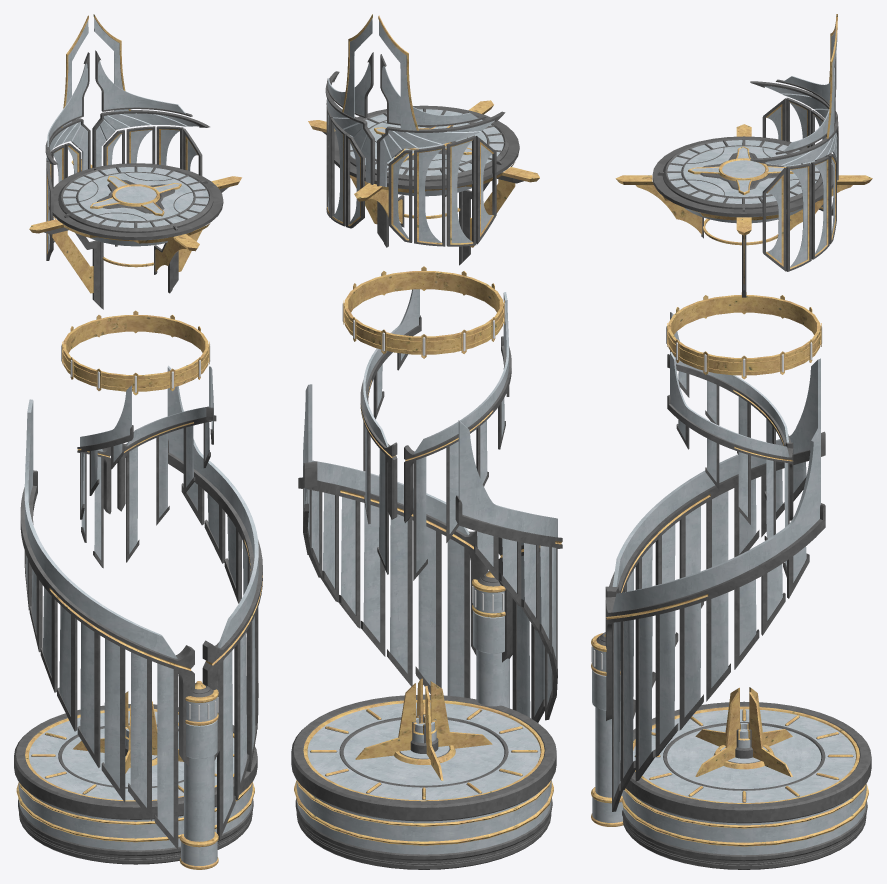
The model's file is SM_pal_map_small_tower_01_2e73df.glb.
The picture shows the model from 3 angles, left to right: view 1: azimuth 30°, elevation 25°; view 2: azimuth 150°, elevation 25°; view 3: azimuth 270°, elevation 25°; orthographic projection. The views are drawn at different scales.
Size of the model in its own units: 18.44 by 63.55 by 20.19.
4 materials, 4 textured.
